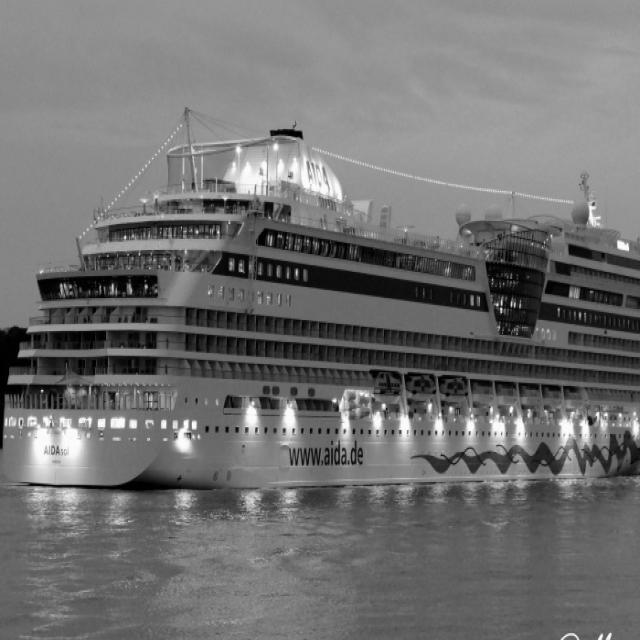cruises: (1, 75, 640, 494)
